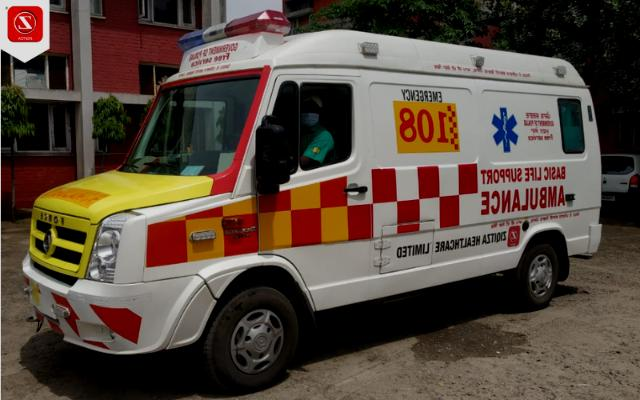ambulance: (18, 6, 621, 384)
